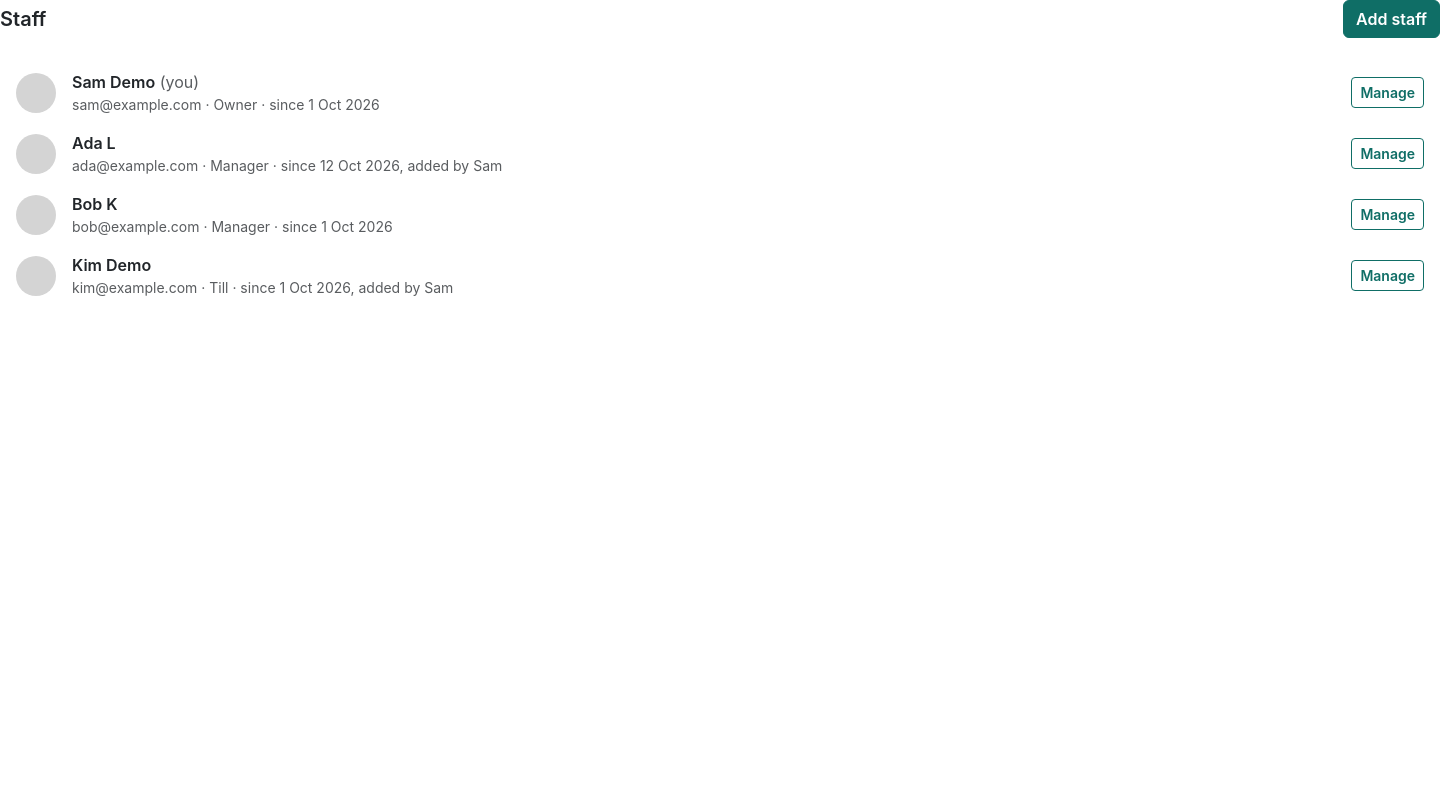
Test: the owner › removes a manager, after being told what follows
Click the button with aria-label "Manage Ada L" at (1388, 154), box [1351,138,1424,169]
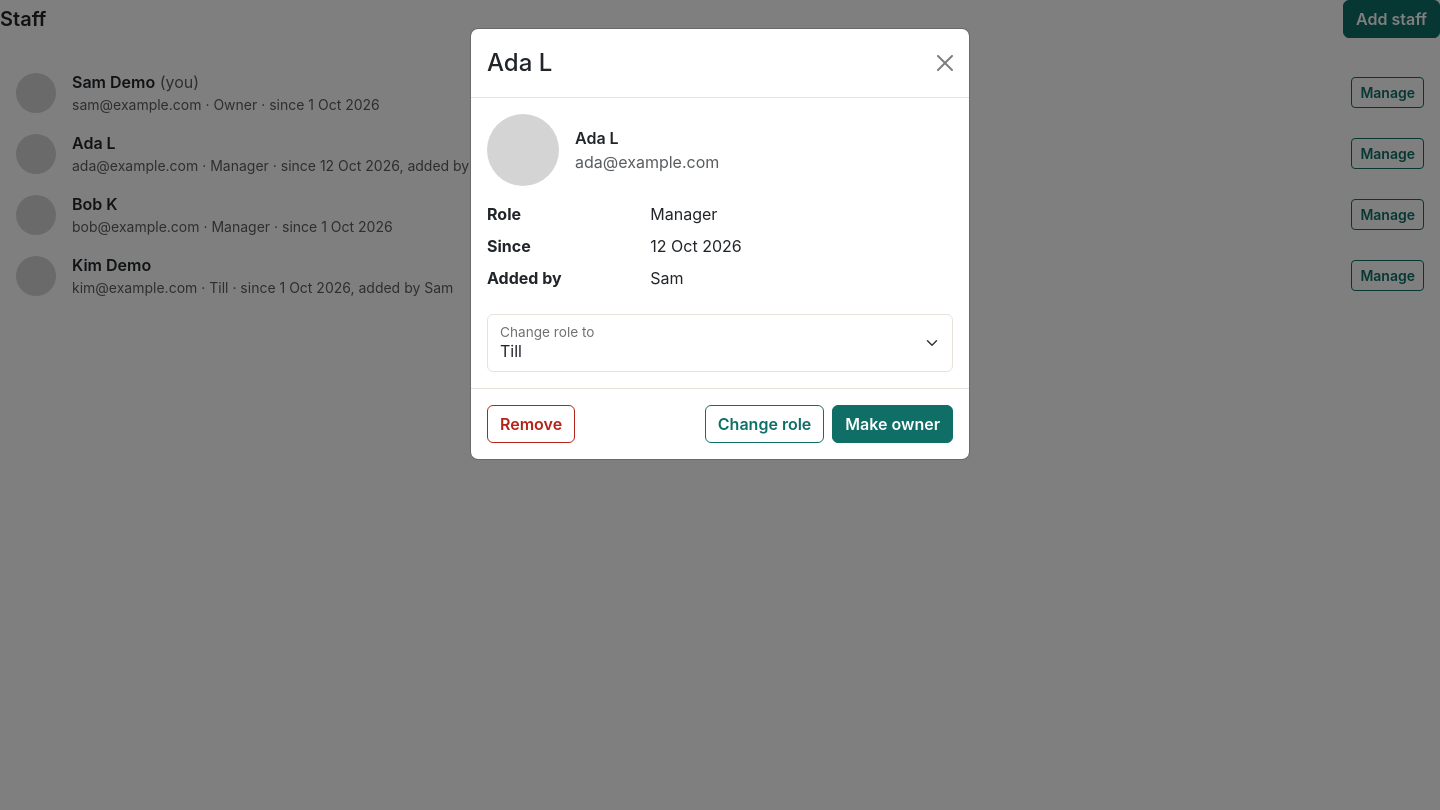
Expected: the text with class "modal-title" reads "Ada L", [487,48,552,77]
Expected: the text "Manager" is shown, [650,204,717,224]
Click the button "Remove" at (531, 424), box [487,405,575,443]
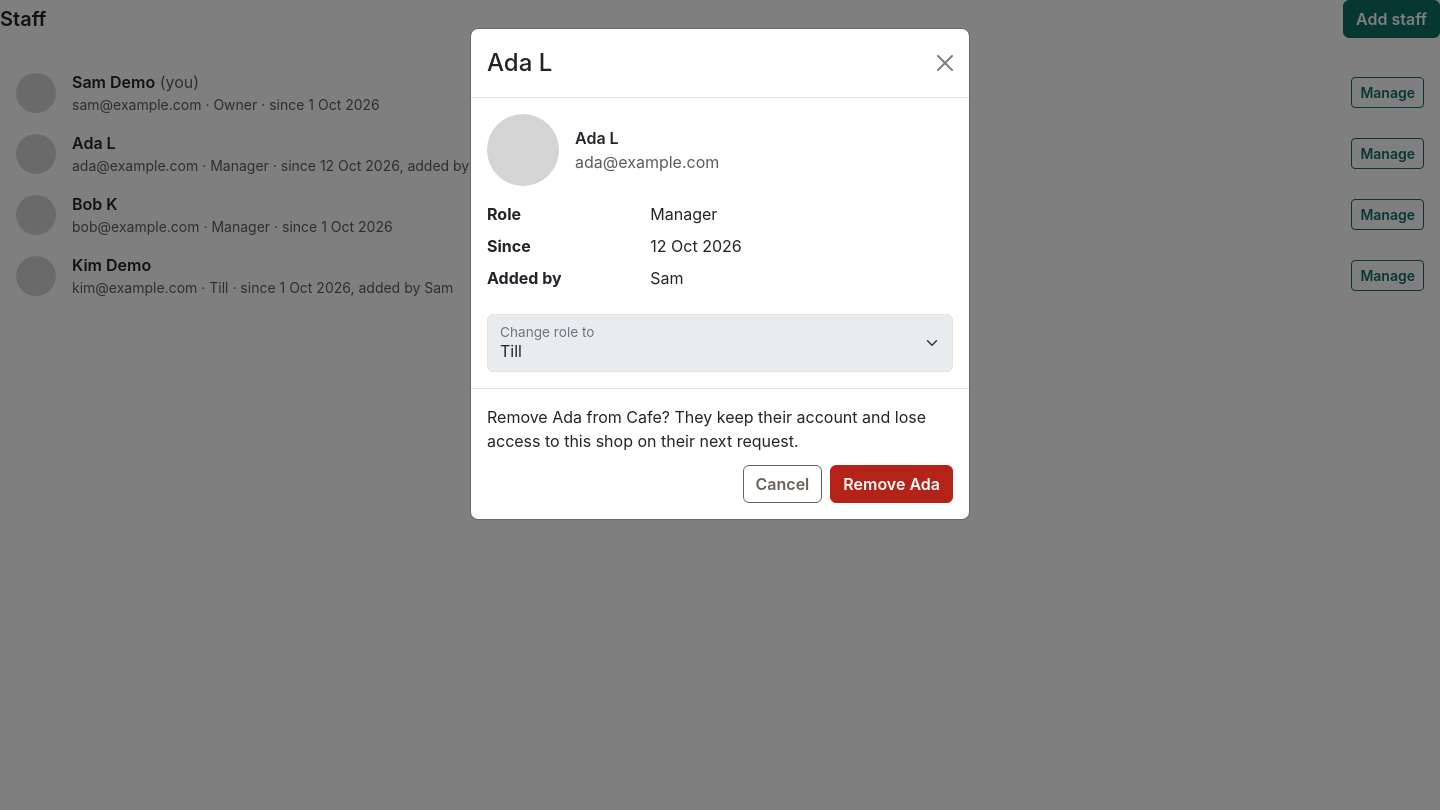
Expected: the text "Remove Ada from Cafe? They keep their account and lose access to this shop on their next request." is shown, [487,407,926,451]
Click the button "Remove Ada" at (892, 484), box [830,465,953,503]
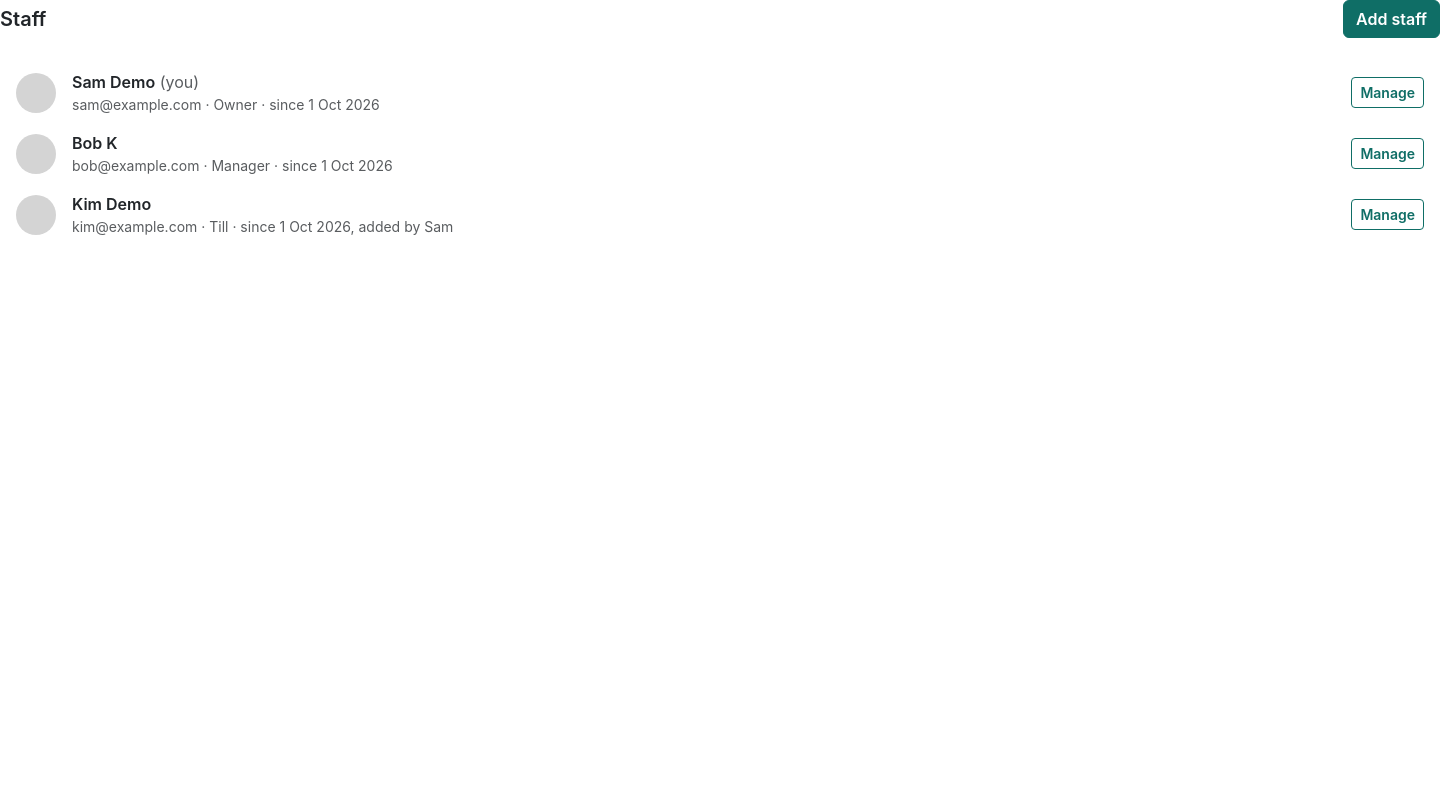
Expected: the dialog is gone
Expected: the text "Ada L" is gone
